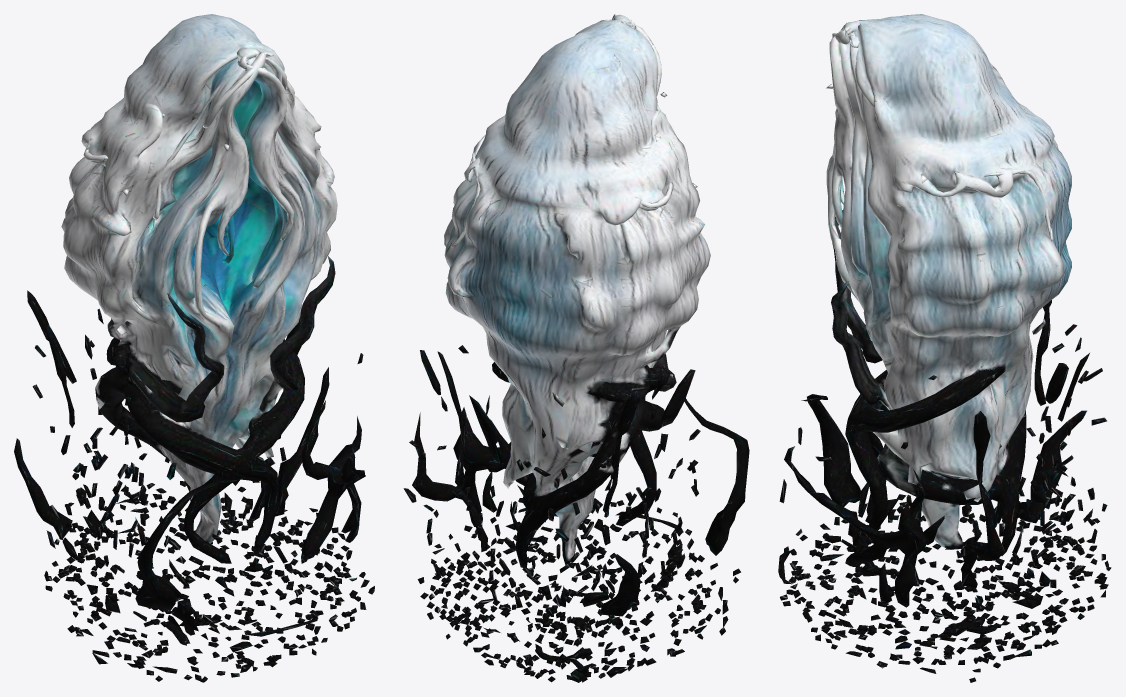
The model's file is Spree_Will-o-wisp.glb.
3 renders of one model, left to right at view 1: azimuth 30°, elevation 25°; view 2: azimuth 150°, elevation 25°; view 3: azimuth 270°, elevation 25°, orthographic. The views are drawn at different scales.
Size of the model in its own units: 0.908 by 1.91 by 0.9158.
1 material, 1 textured.
